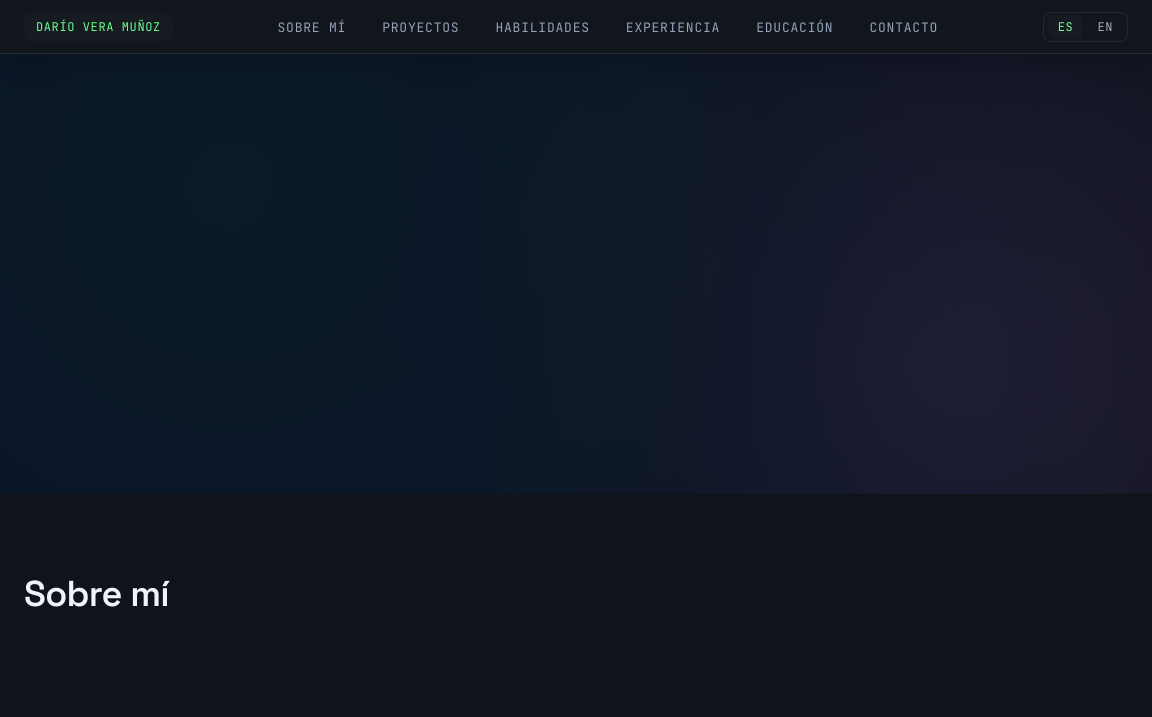
it: Language toggle integration › switching to EN changes visible nav labels
This screenshot has width=1152, height=717.
Expected: the link "Sobre mí" is shown, [276,15,348,40]
# Click EN (desktop toggle)
Click the button with aria-label "switch to en": (1105, 27) [1087,15,1123,39]
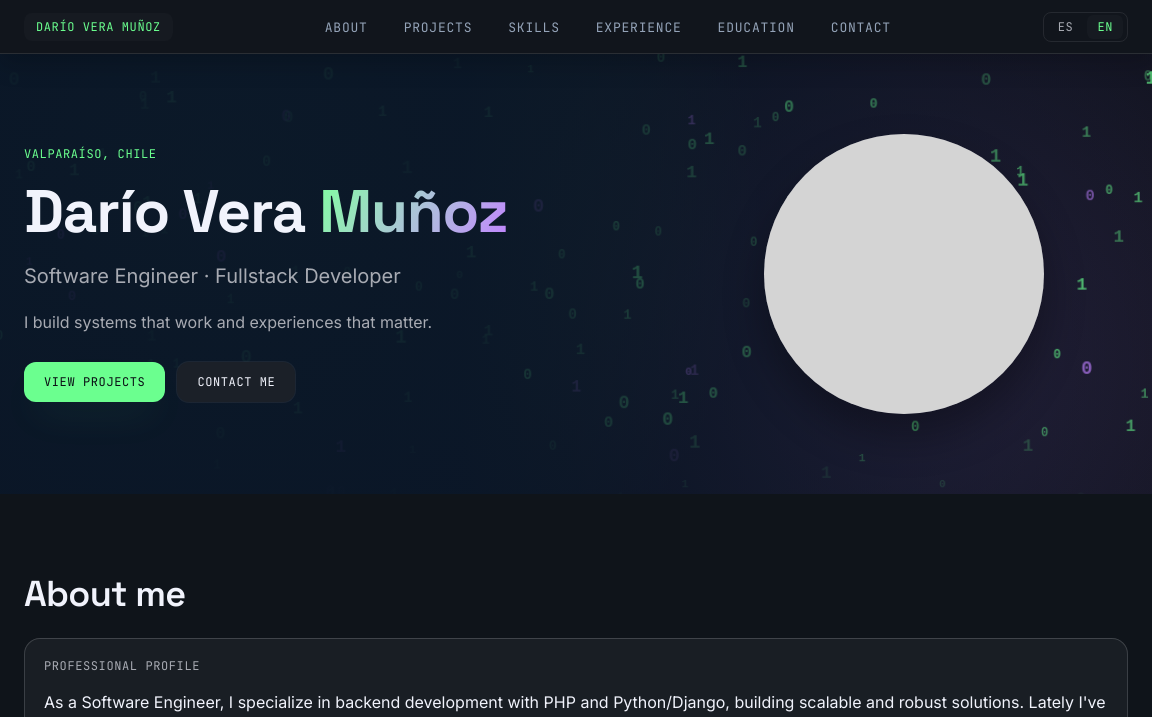
Expected: the link "About" is shown, [323,15,370,40]
Expected: no links "Sobre mí" are shown
